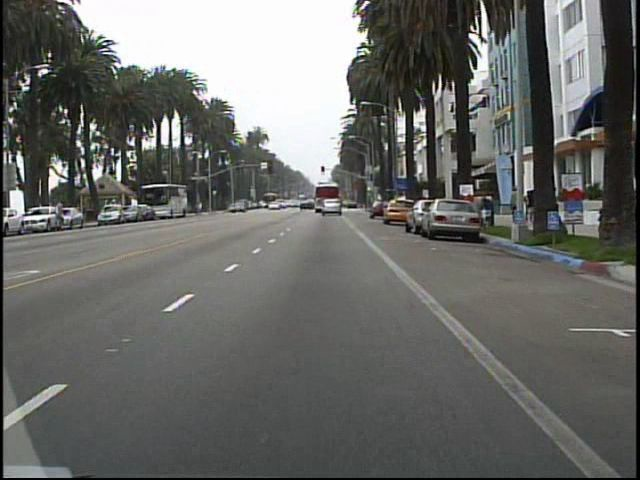person: (535, 180, 554, 230), (506, 181, 523, 228)
